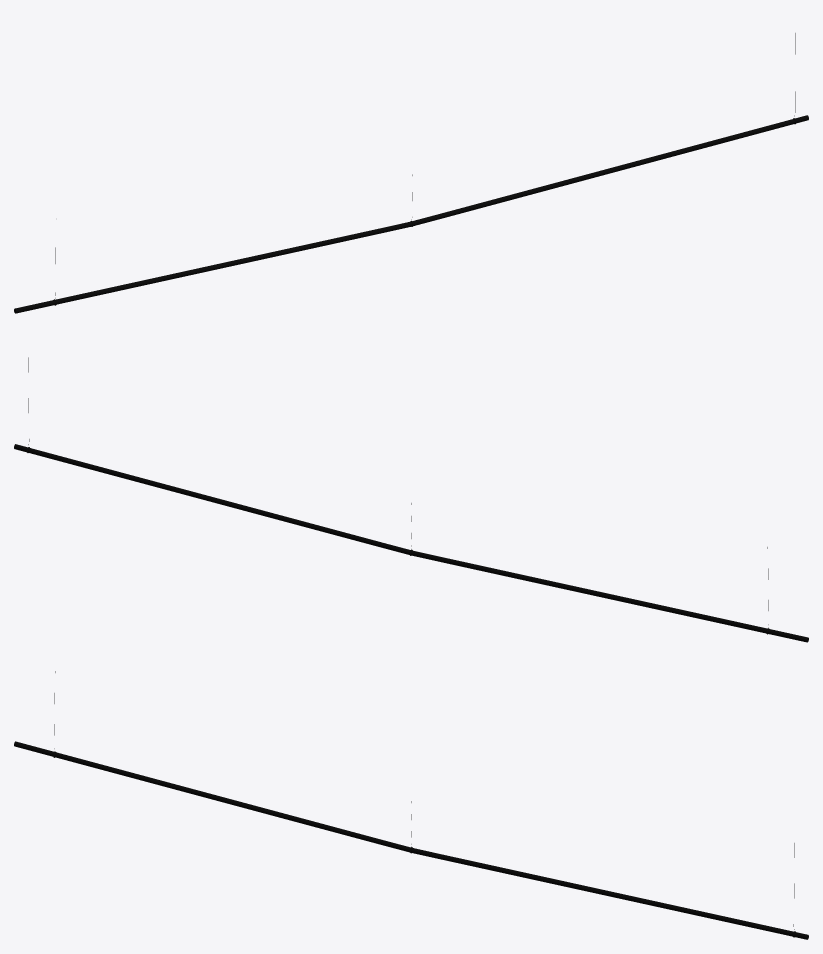
File: BlackMetal005.FBX
3 views of the same model, one above another, from view 1: azimuth 30°, elevation 25°; view 2: azimuth 150°, elevation 25°; view 3: azimuth 330°, elevation 25° (orthographic).
Visible parts, largest first — view 1: BlackMetal005; view 2: BlackMetal005; view 3: BlackMetal005.
Boxes of the visible parts, x1,y1,x2,y2 form: BlackMetal005: [14, 33, 808, 313]; BlackMetal005: [14, 357, 808, 642]; BlackMetal005: [14, 671, 808, 939].
Size of the model in its own units: 18.31 by 2.64 by 0.1219.
Materials: 1 (1 with a texture image).
